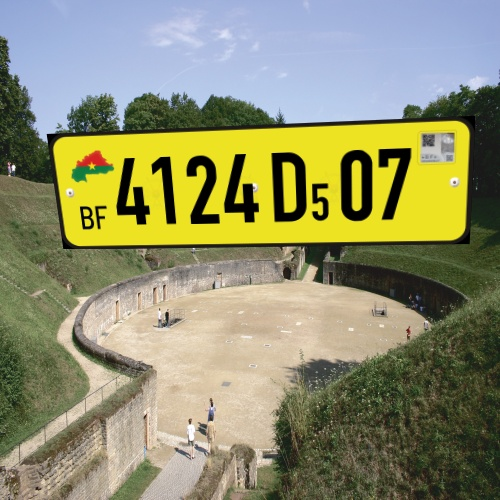plate: (33, 106, 478, 273)
